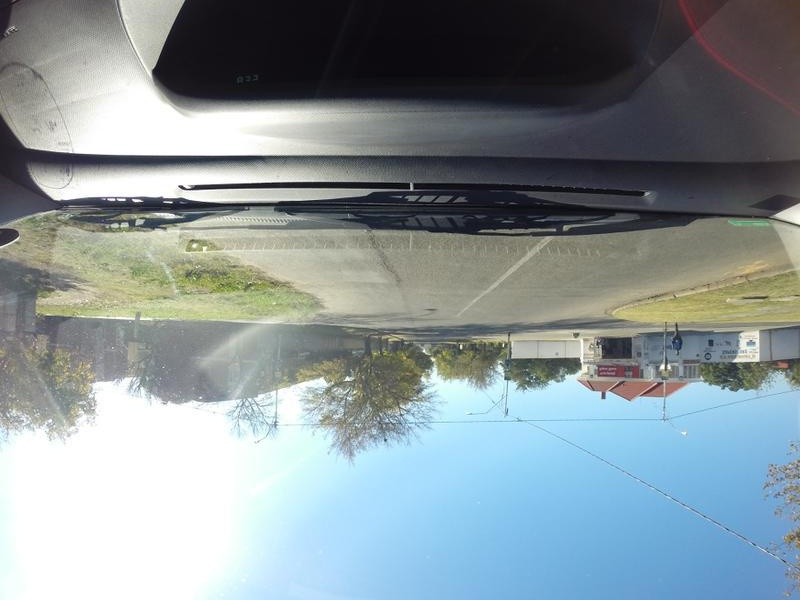pothole: (427, 304, 441, 314)
